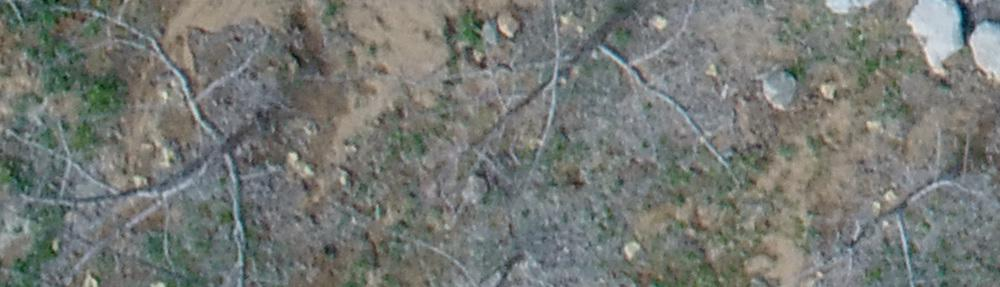apple: (442, 10, 752, 186)
